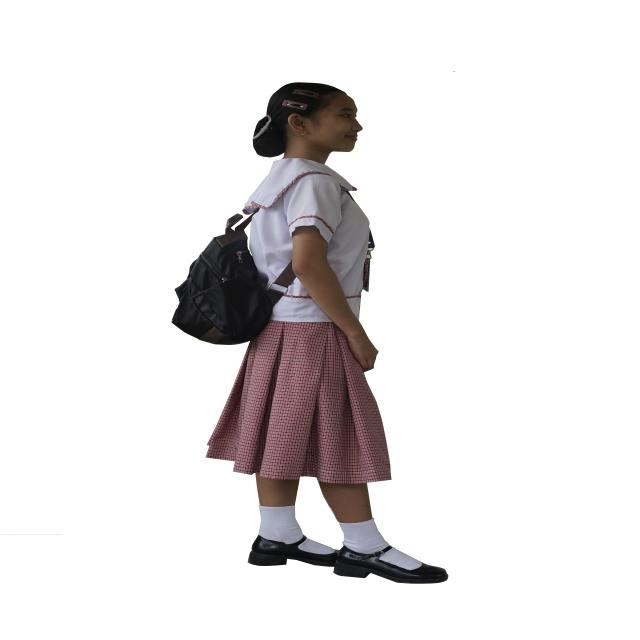pologirl: (243, 158, 369, 316), (271, 281, 329, 322)
shoes: (248, 535, 448, 584)
skirt: (206, 321, 391, 483)
